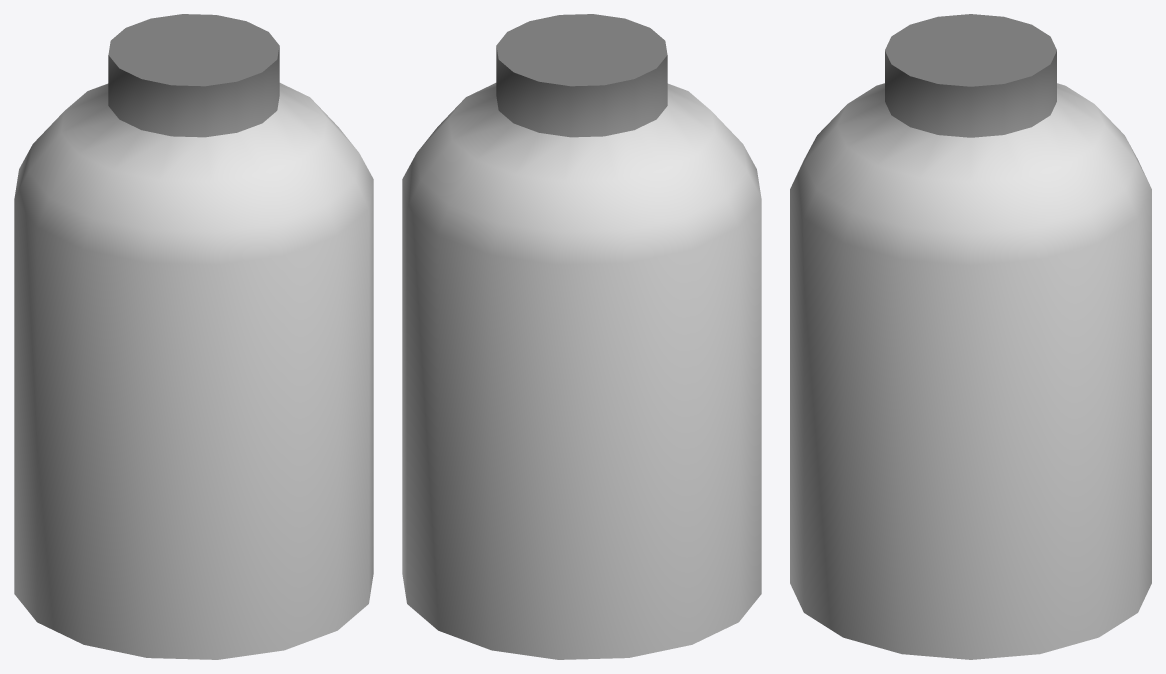
File: AlcoholDisp_2_Base.obj
3 views of the same model, side by side, from view 1: azimuth 30°, elevation 25°; view 2: azimuth 150°, elevation 25°; view 3: azimuth 270°, elevation 25° (orthographic).
Visible parts, largest first — view 1: AlcoholDisp_2_Base; view 2: AlcoholDisp_2_Base; view 3: AlcoholDisp_2_Base.
Boxes of the visible parts, x1=… form: AlcoholDisp_2_Base: x1=14, y1=14, x2=373, y2=659; AlcoholDisp_2_Base: x1=402, y1=14, x2=761, y2=659; AlcoholDisp_2_Base: x1=790, y1=14, x2=1151, y2=659.
Bounding box in the file's own units: 0.2 × 0.3252 × 0.2.
